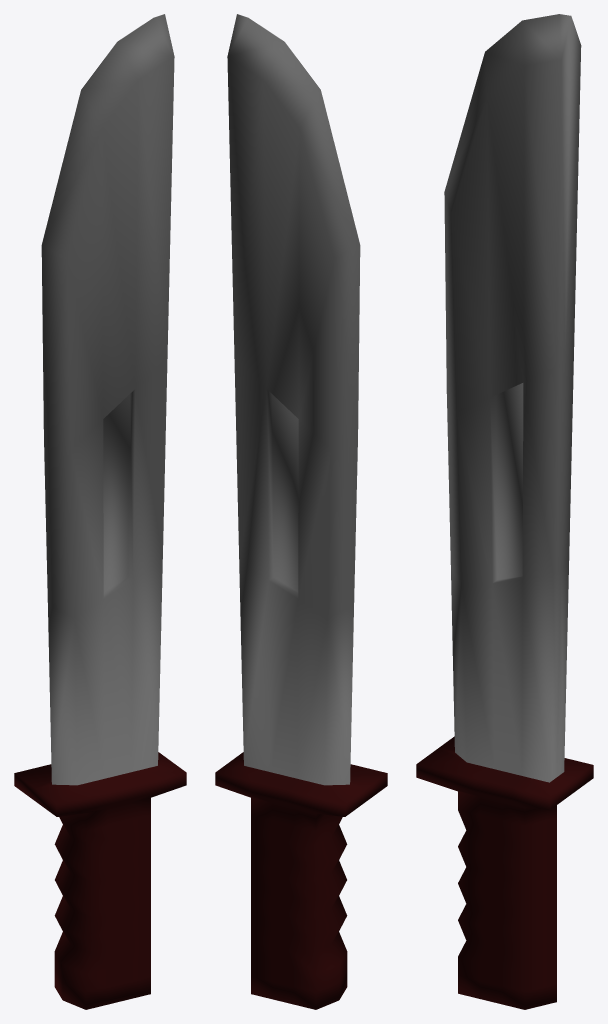
File: knife.glb
3 renders of one model, left to right at view 1: azimuth 30°, elevation 25°; view 2: azimuth 150°, elevation 25°; view 3: azimuth 330°, elevation 25°, orthographic. The views are drawn at different scales.
Parts seen in each view (by area): view 1: Cube; view 2: Cube; view 3: Cube.
Boxes of the visible parts, x1,y1,x2,y2 form: Cube: (14, 14, 186, 1009); Cube: (215, 14, 387, 1009); Cube: (416, 14, 593, 1009).
Bounding box in the file's own units: 0.3221 × 2.28 × 0.1823.
